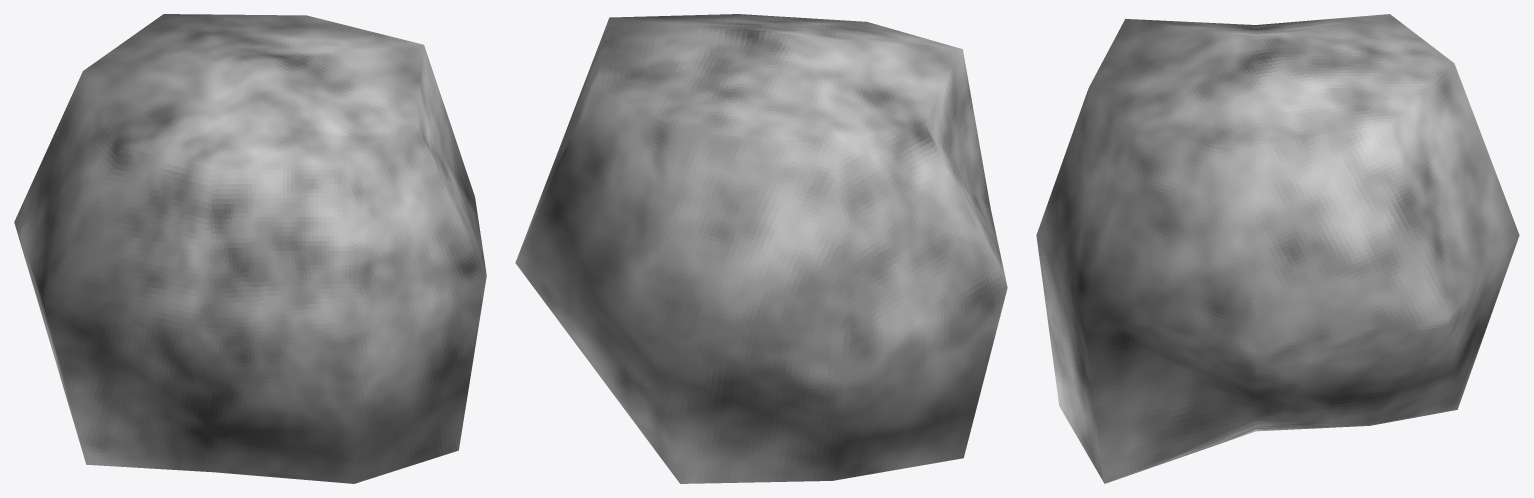
The model's file is asteroid.glb.
3 renders of one model, left to right at view 1: azimuth 30°, elevation 25°; view 2: azimuth 150°, elevation 25°; view 3: azimuth 270°, elevation 25°, orthographic. The views are drawn at different scales.
Visible parts, largest first — view 1: asteroid 01.005; view 2: asteroid 01.005; view 3: asteroid 01.005.
Part boxes in pixels (box(x1,y1,x2,y2)): asteroid 01.005: box(14, 14, 486, 483); asteroid 01.005: box(515, 14, 1007, 483); asteroid 01.005: box(1036, 14, 1519, 483).
Bounding box in the file's own units: 3.88 × 3.25 × 3.64.
Materials: 1 (1 with a texture image).
